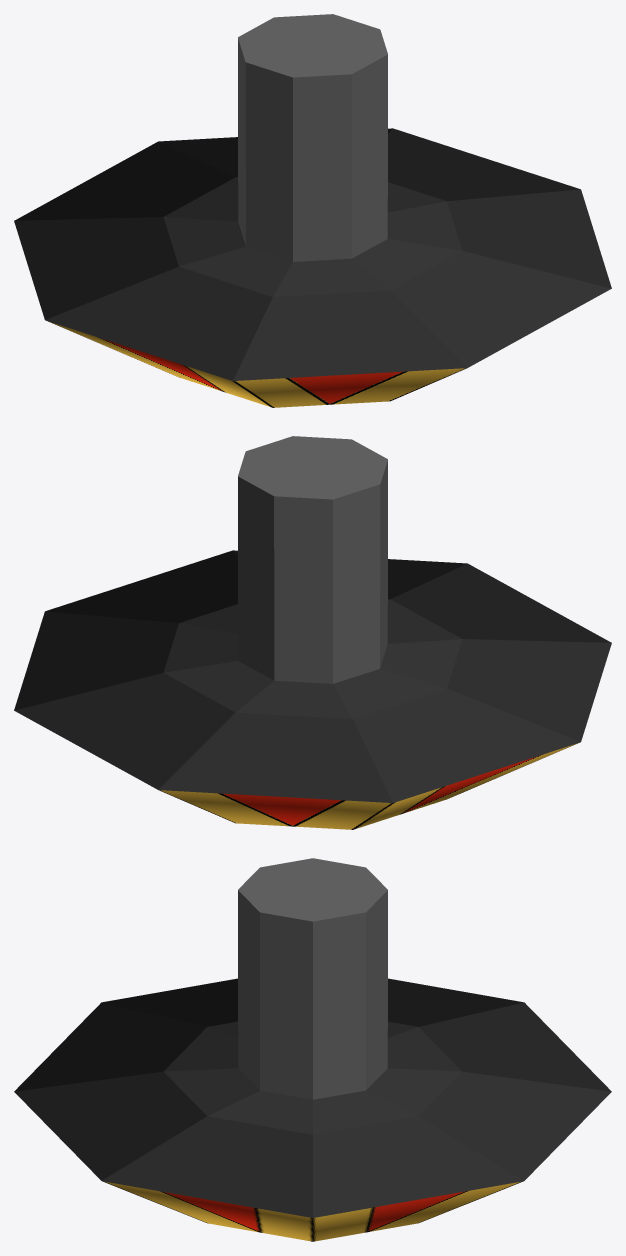
The model's file is CeilingLamp.fbx.
3 views of the same model, one above another, from view 1: azimuth 30°, elevation 25°; view 2: azimuth 150°, elevation 25°; view 3: azimuth 270°, elevation 25° (orthographic). The views are drawn at different scales.
Parts seen in each view (by area): view 1: CeilingLight; view 2: CeilingLight; view 3: CeilingLight.
Part boxes in pixels (box(x1,y1,x2,y2)): CeilingLight: box(14, 14, 611, 407); CeilingLight: box(14, 436, 611, 829); CeilingLight: box(14, 858, 611, 1241).
Size of the model in its own units: 150 by 88.82 by 150.
